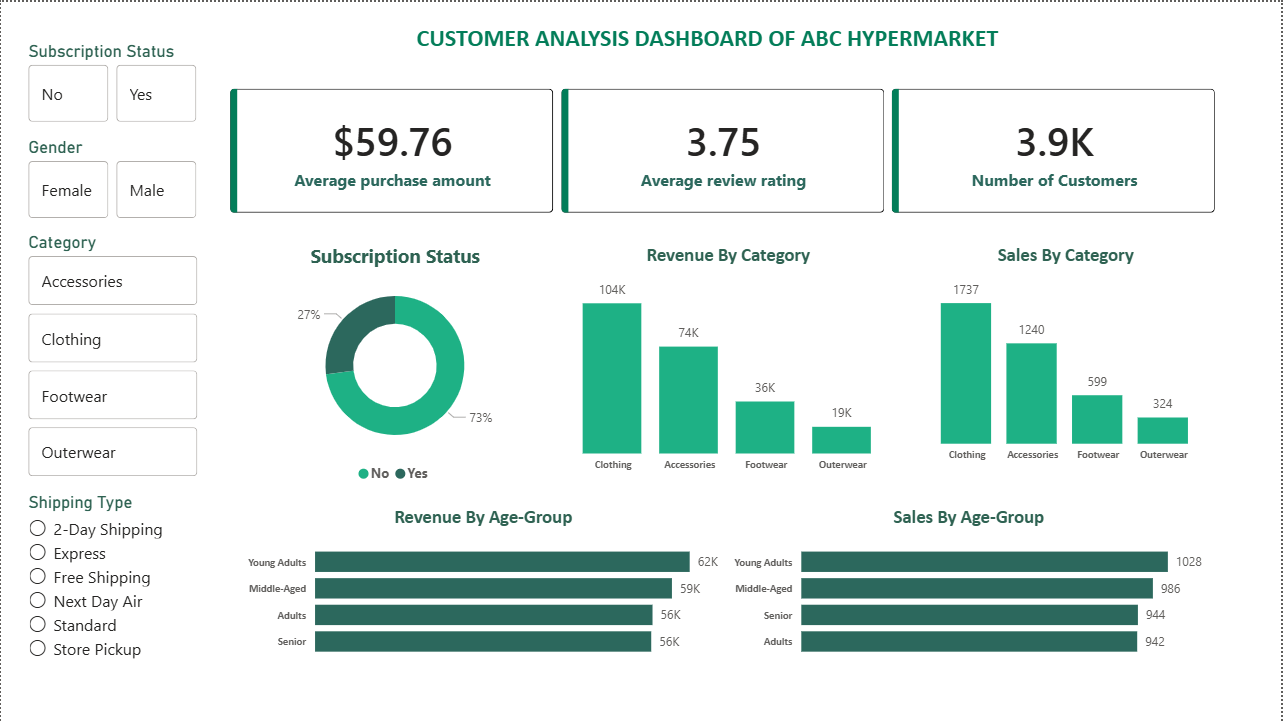

The dashboard page shown, as its layout file describes it:
{"tool":"powerbi","page":{"name":"Page 1","canvas":[1280,720],"ordinal":0},"visuals":[{"type":"cardVisual","fields":{"Data":["public customer.Average purchase amount","public customer.Average review rating","public customer.Number of Customers"]},"box":[210.3,67.3,1023.5,162.6],"z":0},{"type":"donutChart","title":"Subscription Status","fields":{"Y":["CountNonNull(public customer.customer_id)"],"Category":["public customer.subscription_status"]},"box":[240.9,240.9,305.7,249.5],"z":1000},{"type":"clusteredColumnChart","title":"Revenue By Category","fields":{"Category":["public customer.category"],"Y":["Sum(public customer.purchase_amount)"]},"box":[546.6,240.9,362,238.5],"z":2000},{"type":"clusteredColumnChart","title":"Sales By Category","fields":{"Category":["public customer.category"],"Y":["CountNonNull(public customer.item_purchased)"]},"box":[908.6,240.9,311.8,228.7],"z":3000},{"type":"clusteredBarChart","title":"Sales By Age-Group","fields":{"Category":["public customer.age_group"],"Y":["CountNonNull(public customer.item_purchased)"]},"box":[727.6,503.8,480.6,162.6],"z":4000},{"type":"clusteredBarChart","title":"Revenue By Age-Group","fields":{"Category":["public customer.age_group"],"Y":["Sum(public customer.purchase_amount)"]},"box":[240.9,503.8,481.8,162.6],"z":5000},{"type":"advancedSlicerVisual","title":"Subscription Status","fields":{"Values":["public customer.subscription_status"]},"box":[22,39.1,179.8,86.8],"z":6000},{"type":"advancedSlicerVisual","title":"Gender","fields":{"Values":["public customer.gender"]},"box":[22,134.5,179.8,86.8],"z":7000},{"type":"advancedSlicerVisual","title":"Category","fields":{"Values":["public customer.category"]},"box":[22,229.9,179.8,249.5],"z":8000},{"type":"listSlicer","title":"Shipping Type","fields":{"Values":["public customer.shipping_type"]},"box":[22,490.4,179.8,223.8],"z":9000},{"type":"textbox","box":[205.4,15.9,1002.7,46.5],"z":10000}]}

Visuals, with their boxes in screenshot pixels (x1, y1, x2, y2), scaled from the page's 1280x720 canvas onto the 1283x722 screenshot:
cardVisual - public customer.Average purchase amount x public customer.Average review rating: rect(211, 67, 1237, 231)
"Subscription Status" donutChart: rect(241, 242, 548, 492)
"Revenue By Category" clusteredColumnChart: rect(548, 242, 911, 481)
"Sales By Category" clusteredColumnChart: rect(911, 242, 1223, 471)
"Sales By Age-Group" clusteredBarChart: rect(729, 505, 1211, 668)
"Revenue By Age-Group" clusteredBarChart: rect(241, 505, 724, 668)
"Subscription Status" advancedSlicerVisual: rect(22, 39, 202, 126)
"Gender" advancedSlicerVisual: rect(22, 135, 202, 222)
"Category" advancedSlicerVisual: rect(22, 231, 202, 481)
"Shipping Type" listSlicer: rect(22, 492, 202, 716)
textbox: rect(206, 16, 1211, 63)
